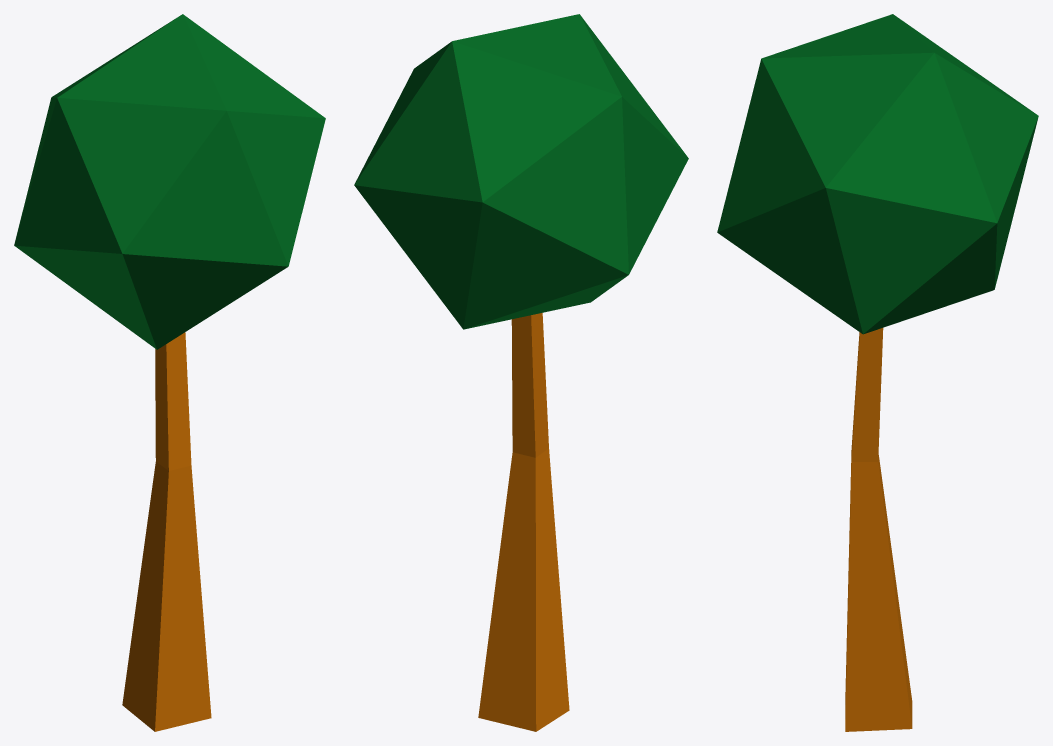
File: new tree2.fbx
The picture shows the model from 3 angles, left to right: view 1: azimuth 30°, elevation 25°; view 2: azimuth 150°, elevation 25°; view 3: azimuth 270°, elevation 25°; orthographic projection. The views are drawn at different scales.
Visible parts, largest first — view 1: Cube; view 2: Cube; view 3: Cube.
Boxes of the visible parts, <box> form: Cube: <box>14,14,325,731</box>; Cube: <box>354,14,688,731</box>; Cube: <box>717,14,1038,731</box>.
Size of the model in its own units: 577 by 1414 by 600.
